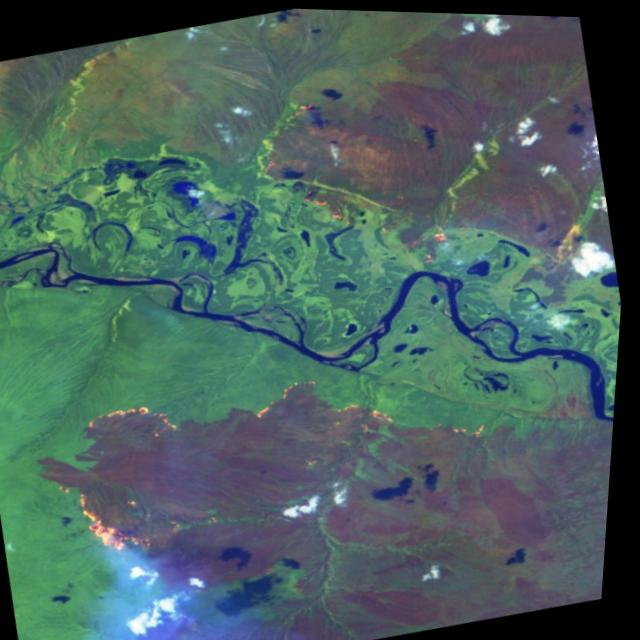fire: (48, 322, 529, 593), (254, 67, 474, 291)
